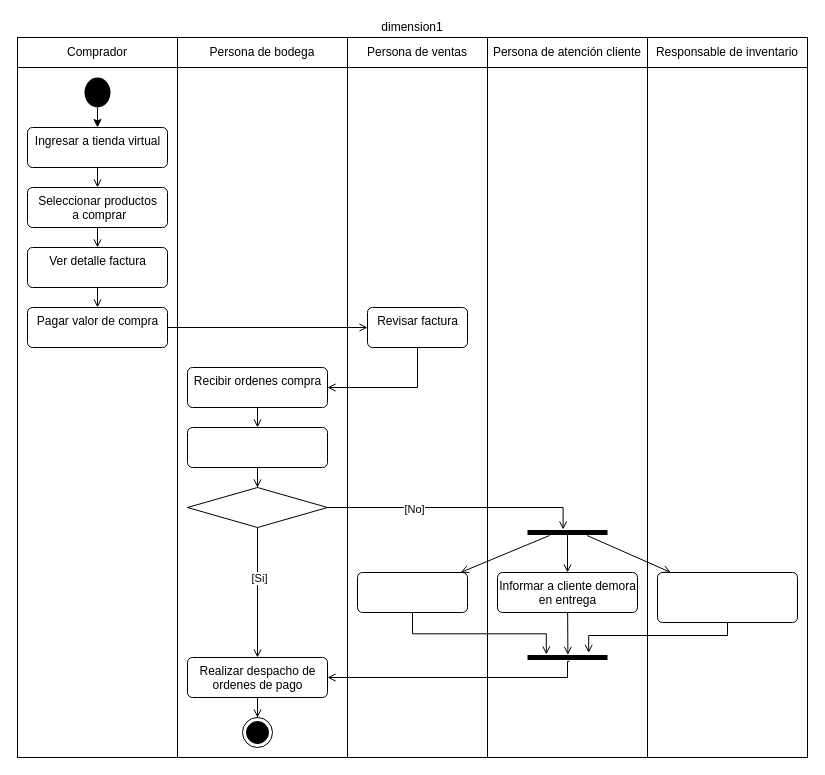
Image size: 825x775. Some labels were removed from this diagram. Each missing label, with the centre of its shape:
"existe producto stock" belongs at point (257, 507).
"Genarar cupon de descuento" belongs at point (412, 592).
"Realizar adquisición inmediata de productos a proveedor" belongs at point (727, 597).
"verificar productos en stock" belongs at point (257, 447).
